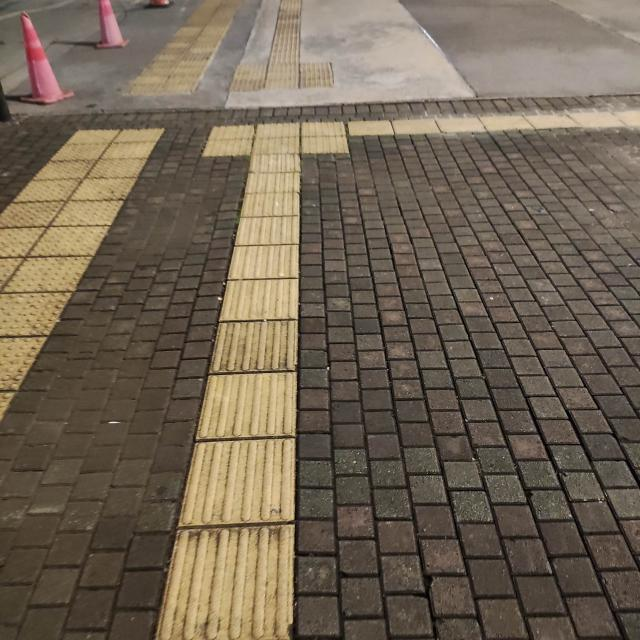kanan: (225, 100, 406, 177)
